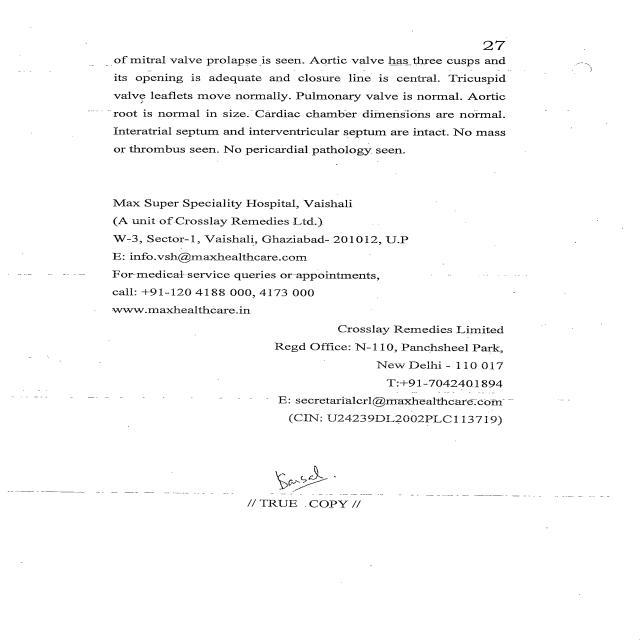page-number: (304, 0, 640, 55)
